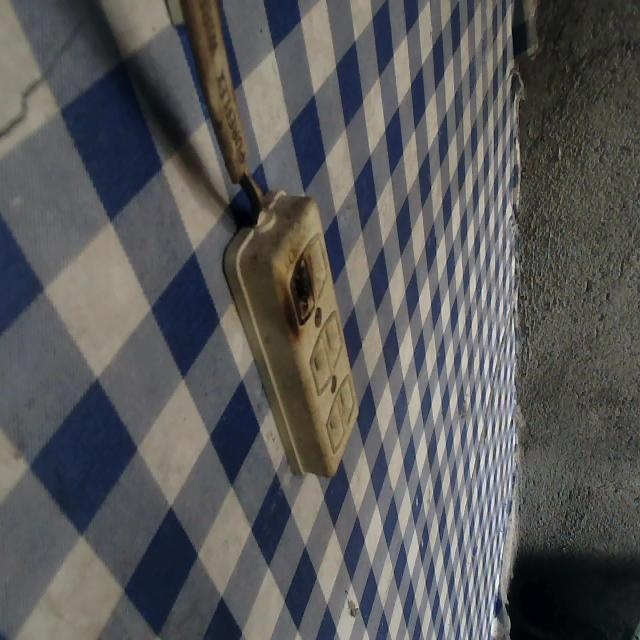-: (282, 250, 320, 322)
